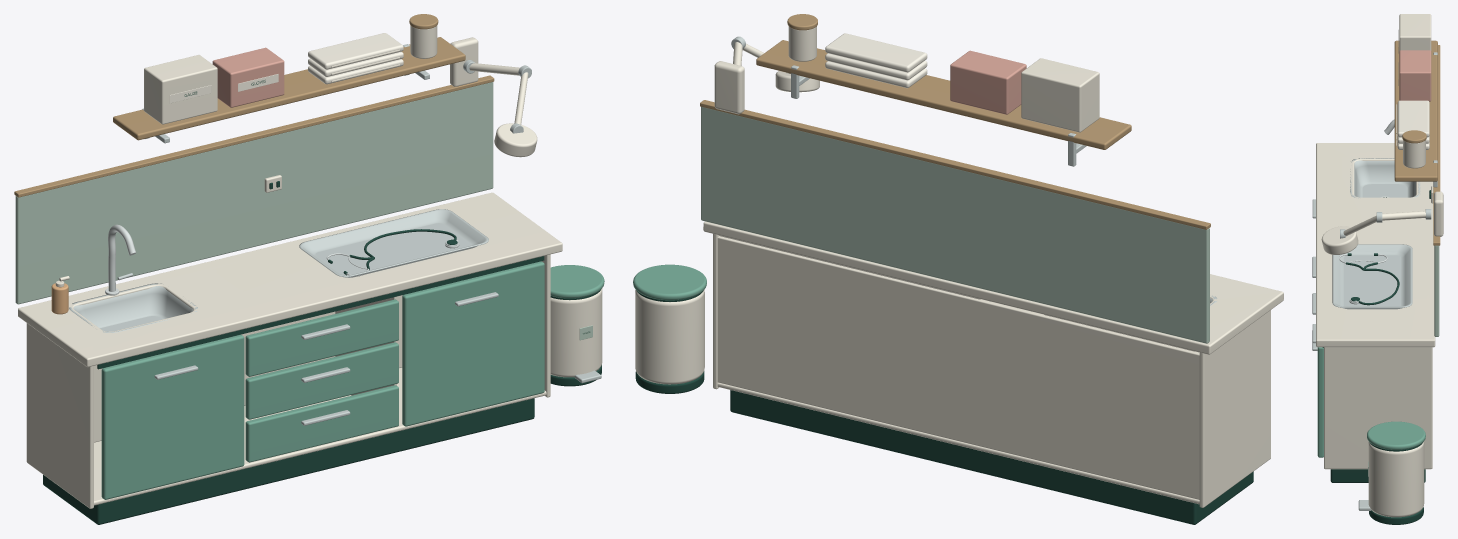
File: clinic-station.glb
3 views of the same model, side by side, from view 1: azimuth 30°, elevation 25°; view 2: azimuth 150°, elevation 25°; view 3: azimuth 270°, elevation 25° (orthographic). The views are drawn at different scales.
Parts seen in each view (by area): view 1: Backsplash | washable sage panel | exported, Countertop | solid surface | exported, Cabinet | mint door | exported, Cabinet | mint door.001 | exported, Cabinet | recessed plinth | exported, Cabinet | side end panel | exported, Tray | connected rolled steel shell | exported, Cabinet | drawer 03 | exported, Cabinet | drawer 01 | exported, Cabinet | drawer 02 | exported, Shelf | oak plank | exported, Waste bin | body | exported (+16 smaller); view 2: Cabinet | back panel | exported, Backsplash | washable sage panel | exported, Cabinet | recessed plinth | exported, Cabinet | side end panel | exported, Countertop | solid surface | exported, Shelf | oak plank | exported, Waste bin | body | exported, Supplies | GAUZE box | exported, Backsplash | upper oak edge | exported, Supplies | GLOVES box | exported, Cabinet | bottom shelf | exported, Supplies | folded towel 2 | exported (+6 smaller); view 3: Countertop | solid surface | exported, Cabinet | side end panel.001 | exported, Tray | connected rolled steel shell | exported, Waste bin | body | exported, Shelf | oak plank | exported, Sink | continuous bowl | exported, Supplies | GLOVES box | exported, Waste bin | lid | exported, Supplies | GAUZE box | exported, Supplies | folded towel 2 | exported, Exam light | round head | exported, Cabinet | mint door.001 | exported (+10 smaller).
Part boxes in pixels (x1,y1,x2,y2): Backsplash | washable sage panel | exported: (15,82,493,304); Countertop | solid surface | exported: (18,192,562,366); Cabinet | mint door | exported: (101,334,244,499); Cabinet | mint door.001 | exported: (402,261,544,426); Cabinet | recessed plinth | exported: (43,398,534,524); Cabinet | side end panel | exported: (26,323,93,508); Tray | connected rolled steel shell | exported: (299,209,488,277); Cabinet | drawer 03 | exported: (245,385,398,462); Cabinet | drawer 01 | exported: (245,299,398,376); Cabinet | drawer 02 | exported: (245,342,398,419); Shelf | oak plank | exported: (113,37,465,140); Waste bin | body | exported: (550,288,602,377); Cabinet | back panel | exported: (717,236,1199,499); Backsplash | washable sage panel | exported: (701,106,1209,343); Cabinet | recessed plinth | exported: (730,390,1253,524); Cabinet | side end panel | exported: (1199,310,1270,507); Countertop | solid surface | exported: (703,221,1283,354); Shelf | oak plank | exported: (756,40,1131,149); Waste bin | body | exported: (635,289,704,384); Supplies | GAUZE box | exported: (1021,58,1099,132); Backsplash | upper oak edge | exported: (700,100,1210,229); Supplies | GLOVES box | exported: (950,50,1026,114); Cabinet | bottom shelf | exported: (717,382,1199,504); Supplies | folded towel 2 | exported: (825,33,927,72); Countertop | solid surface | exported: (1316,143,1435,347); Cabinet | side end panel.001 | exported: (1324,347,1432,469); Tray | connected rolled steel shell | exported: (1332,244,1412,309); Waste bin | body | exported: (1368,442,1424,517); Shelf | oak plank | exported: (1394,40,1437,181); Sink | continuous bowl | exported: (1350,158,1420,198); Supplies | GLOVES box | exported: (1399,50,1431,101); Waste bin | lid | exported: (1367,421,1425,449); Supplies | GAUZE box | exported: (1399,14,1431,50); Supplies | folded towel 2 | exported: (1397,100,1429,137); Exam light | round head | exported: (1321,226,1358,254); Cabinet | mint door.001 | exported: (1317,347,1323,457).
Bounding box in the file's own units: 3.19 × 2.12 × 0.759.
